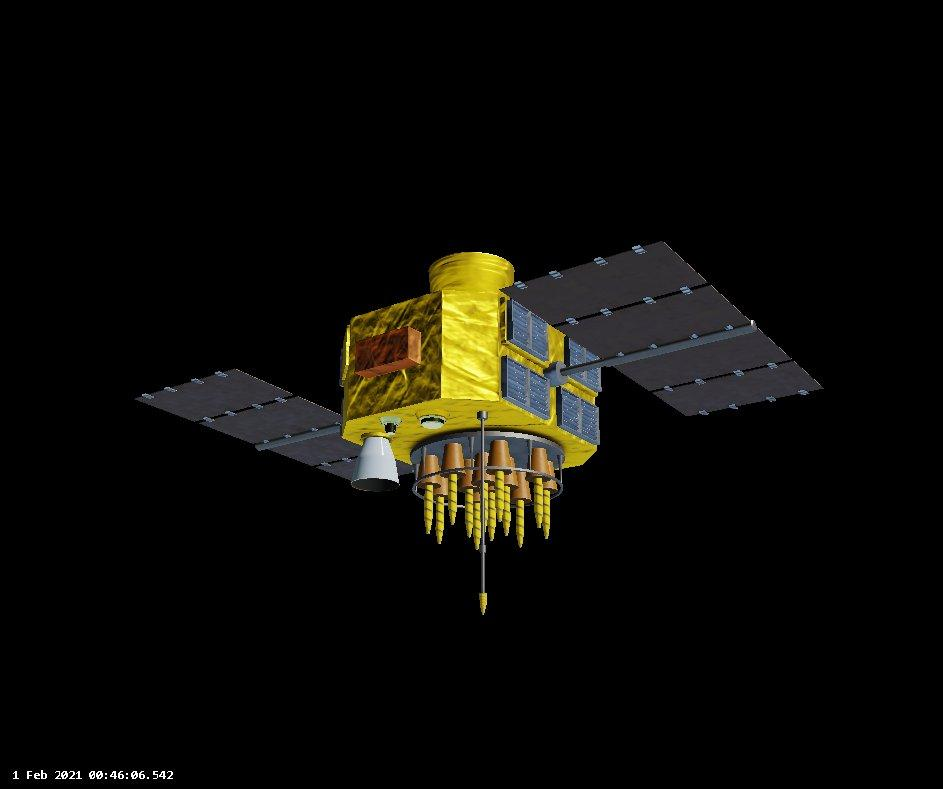antenna: (474, 409, 493, 626)
body: (340, 290, 605, 472)
solar: (500, 242, 834, 419), (130, 365, 420, 491)
thruster: (428, 250, 516, 302), (349, 433, 403, 496)
